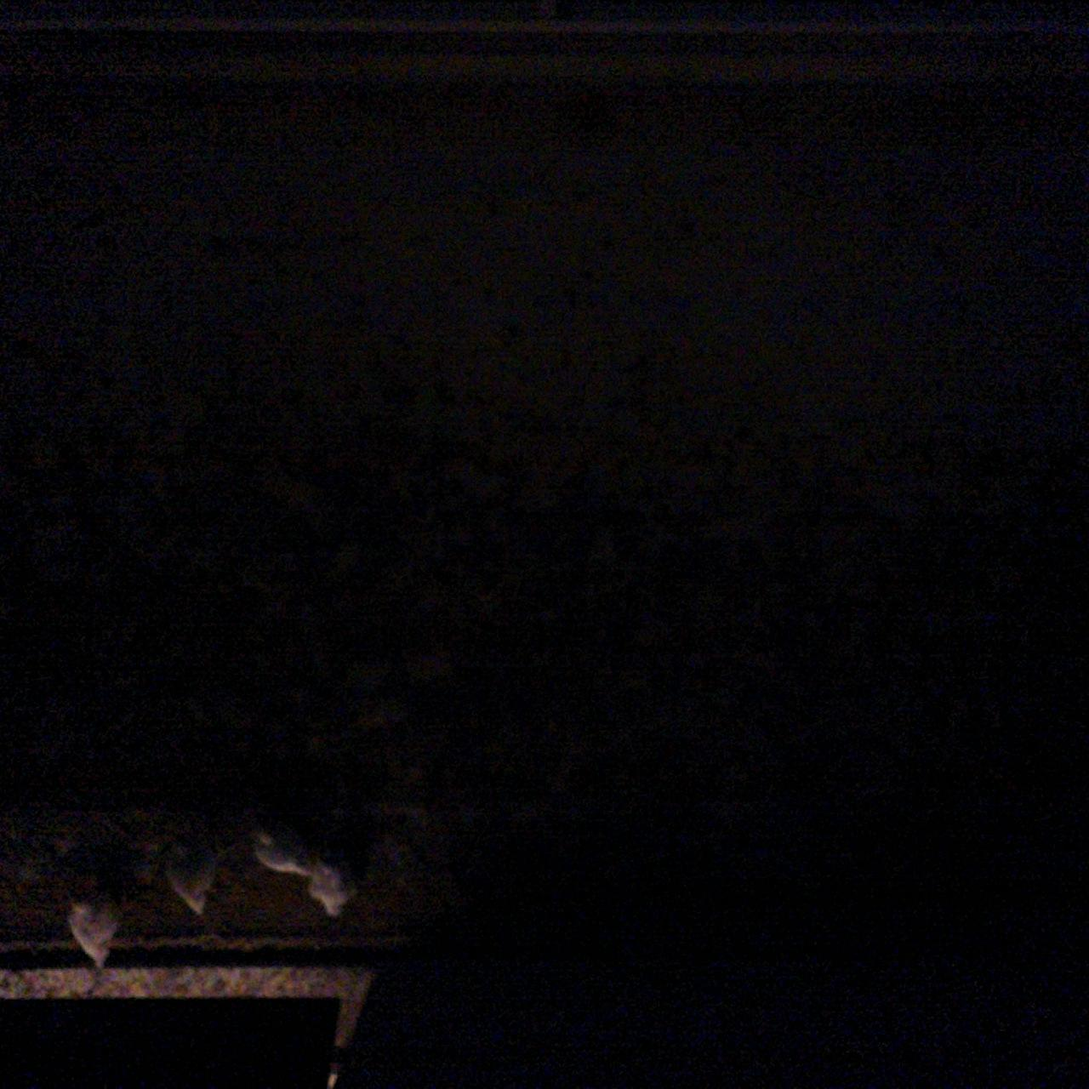chicken: (302, 829, 374, 917), (160, 827, 226, 919), (62, 885, 121, 969), (247, 803, 309, 870)
